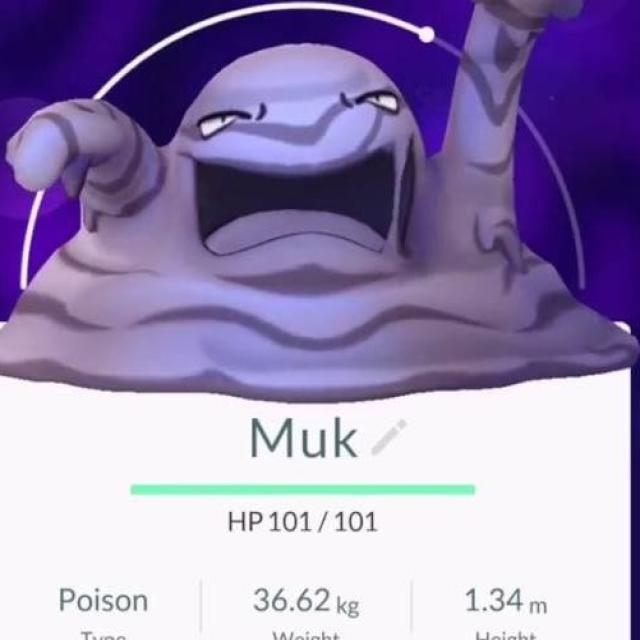Muk: (102, 42, 500, 389)
